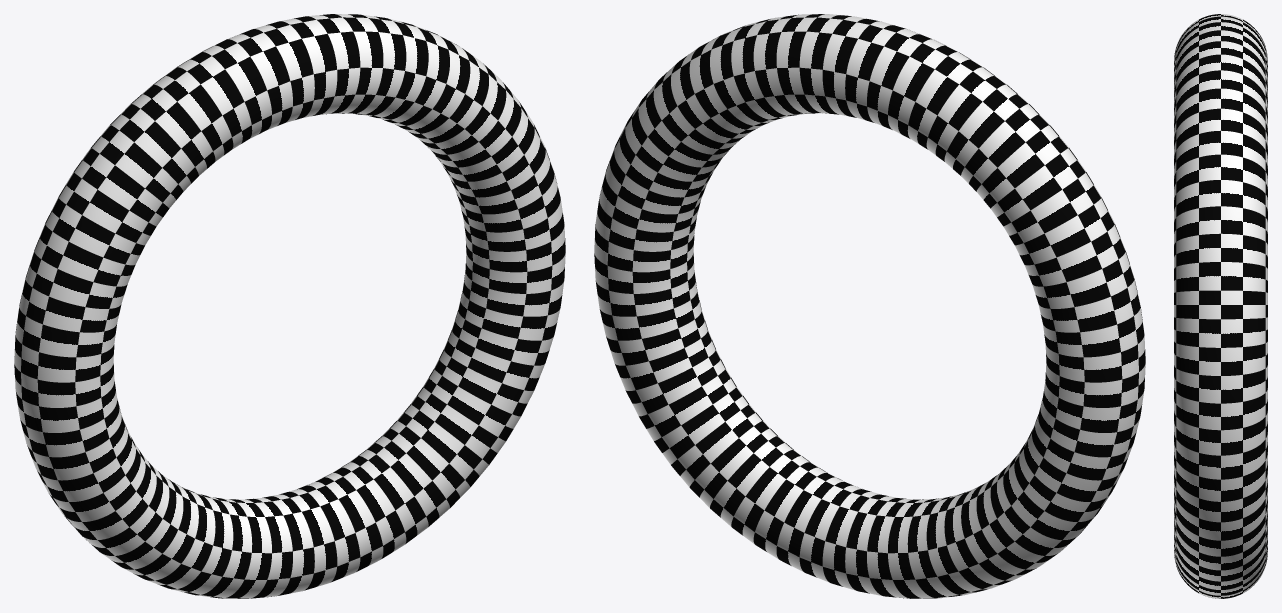
File: finish.dae
3 renders of one model, left to right at view 1: azimuth 30°, elevation 25°; view 2: azimuth 150°, elevation 25°; view 3: azimuth 270°, elevation 25°, orthographic. The views are drawn at different scales.
Visible parts, largest first — view 1: group_0; view 2: group_0; view 3: group_0.
Boxes of the visible parts, x1=… form: group_0: x1=14, y1=14, x2=565, y2=598; group_0: x1=594, y1=14, x2=1145, y2=598; group_0: x1=1174, y1=14, x2=1267, y2=598.
Size of the model in its own units: 1969 by 315 by 1969.
